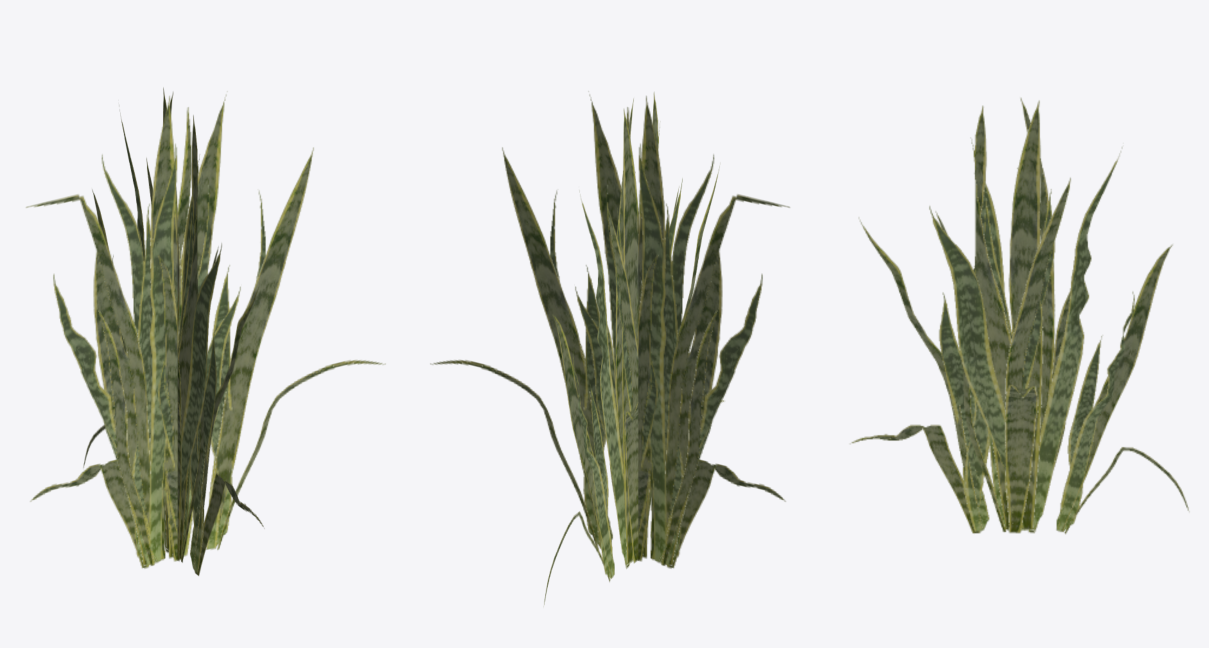
The model's file is SansevieriaTrifasciata.glb.
3 views of the same model, side by side, from view 1: azimuth 30°, elevation 25°; view 2: azimuth 150°, elevation 25°; view 3: azimuth 270°, elevation 25° (orthographic). The views are drawn at different scales.
Parts seen in each view (by area): view 1: mesh__mat_billboard_2; view 2: mesh__mat_billboard_2; view 3: mesh__mat_billboard_2.
Boxes of the visible parts, box(x1,y1,x2,y2) form: mesh__mat_billboard_2: box(26, 87, 385, 575); mesh__mat_billboard_2: box(430, 91, 789, 604); mesh__mat_billboard_2: box(850, 98, 1189, 534).
Size of the model in its own units: 0.867 by 1.04 by 0.7706.
Materials: 1 (1 with a texture image).
